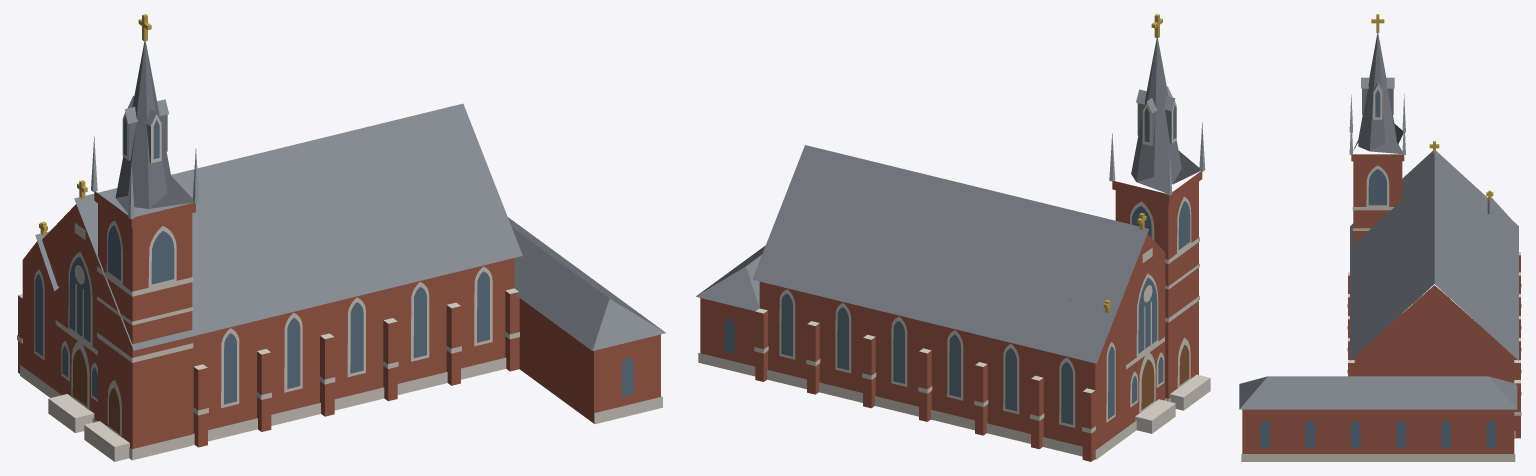
The model's file is clt-st-peters-catholic.glb.
3 views of the same model, side by side, from view 1: azimuth 30°, elevation 25°; view 2: azimuth 150°, elevation 25°; view 3: azimuth 270°, elevation 25° (orthographic). The views are drawn at different scales.
Visible parts, largest first — view 1: St. Peter's Catholic Church; view 2: St. Peter's Catholic Church; view 3: St. Peter's Catholic Church.
Part boxes in pixels (bbox=[...]): St. Peter's Catholic Church: bbox=[17, 14, 665, 461]; St. Peter's Catholic Church: bbox=[696, 14, 1210, 461]; St. Peter's Catholic Church: bbox=[1239, 14, 1521, 461].
Bounding box in the file's own units: 39.3 × 34 × 28.85.
